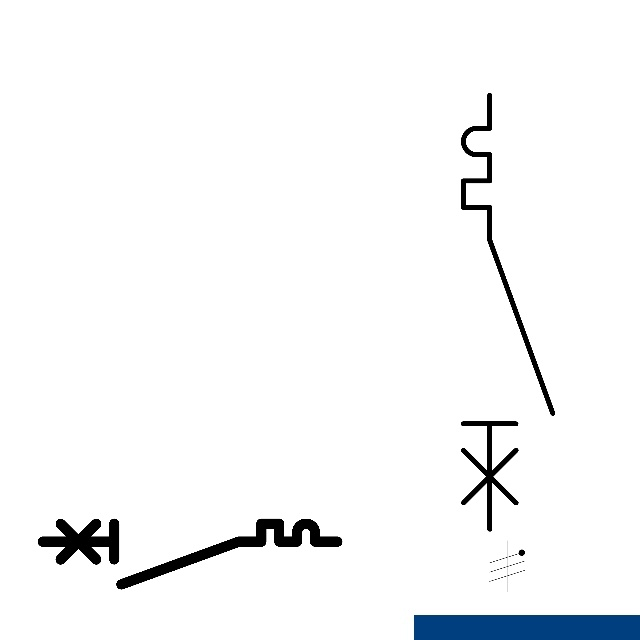interruptor_termomagnetico: (452, 84, 563, 540), (35, 516, 345, 592)
